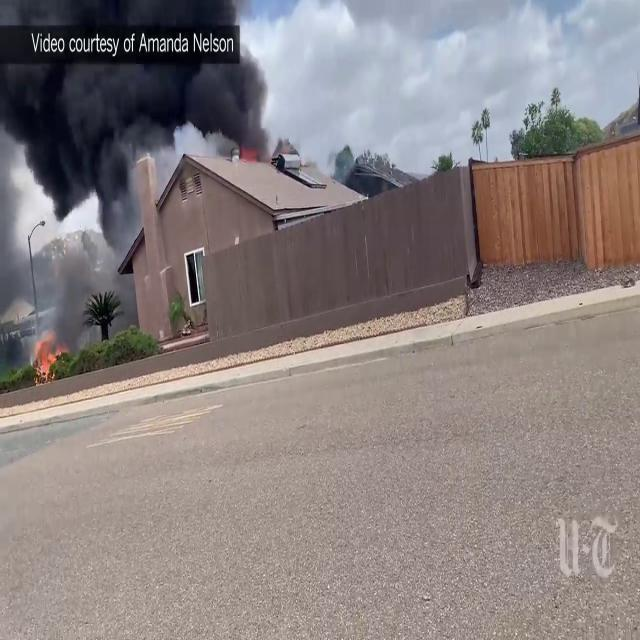Fire: (32, 325, 62, 382)
Smoke: (0, 0, 266, 188)
